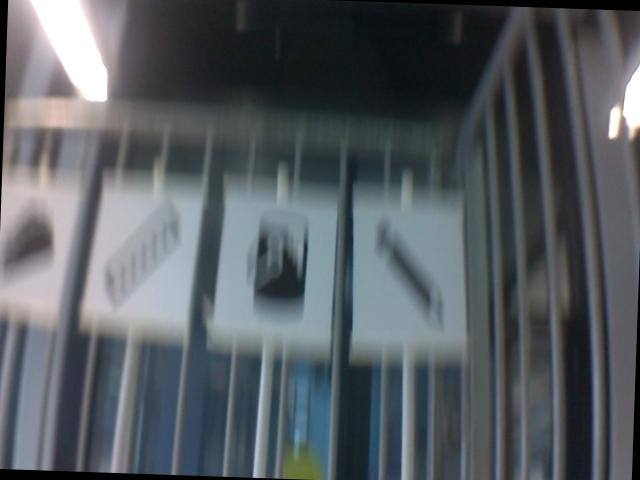bucket: (225, 205, 317, 311)
pencil: (366, 213, 452, 330)
ruler: (101, 195, 185, 313)
taco: (0, 189, 62, 282)
